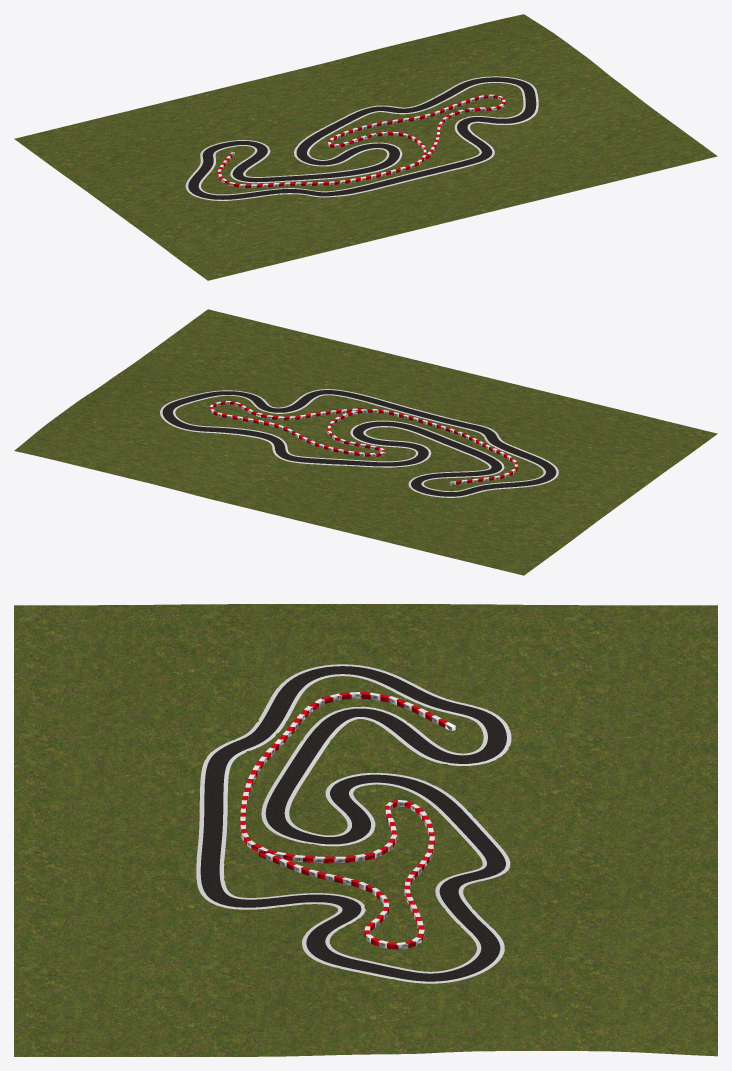
The model's file is intento (1).fbx.
3 views of the same model, one above another, from view 1: azimuth 30°, elevation 25°; view 2: azimuth 150°, elevation 25°; view 3: azimuth 270°, elevation 25° (orthographic). The views are drawn at different scales.
Visible parts, largest first — view 1: terreno, pista, Cube; view 2: terreno, pista, Cube; view 3: terreno, pista, Cube.
Part boxes in pixels (<box>): terreno: <box>14,14,717,280</box>; pista: <box>185,76,538,200</box>; Cube: <box>217,94,505,187</box>; terreno: <box>14,309,717,575</box>; pista: <box>160,389,558,497</box>; Cube: <box>209,401,517,485</box>; terreno: <box>14,604,717,1056</box>; pista: <box>196,664,511,983</box>; Cube: <box>240,692,455,949</box>.
Size of the model in its own units: 120206 by 1965 by 79181.
5 materials, 3 textured.
